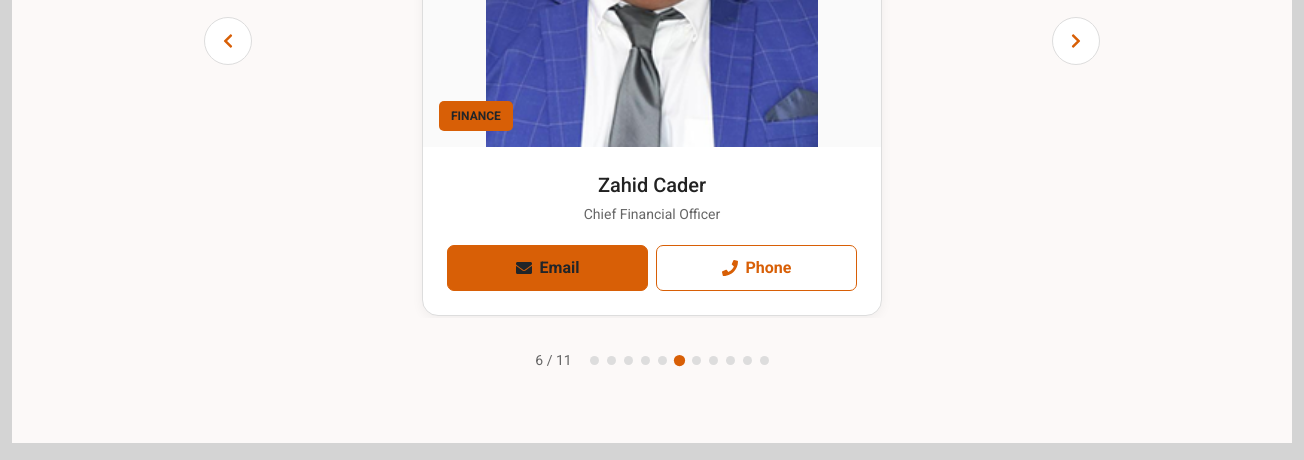
Scenario: About executive contacts › shows all source contacts in a navigable carousel with working contact links
Earlier steps of the test are not shown.
Later steps or results of the test are not shown.
(page scrolled)
Check: the heading "Zahid Cader" is shown, box [598, 173, 706, 197]
Click the button named "View Adv. Prince Olivier": (696, 361) [692, 356, 701, 365]
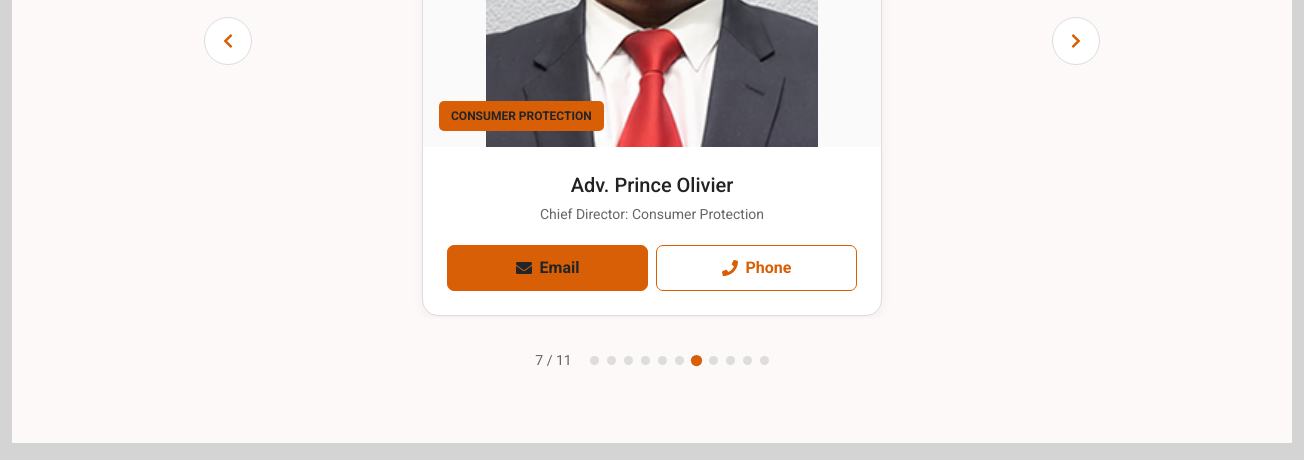
Check: the heading "Adv. Prince Olivier" is shown, box [571, 173, 733, 197]
Click the button named "View Mr. Riaan Warie": (713, 361) [709, 356, 718, 365]
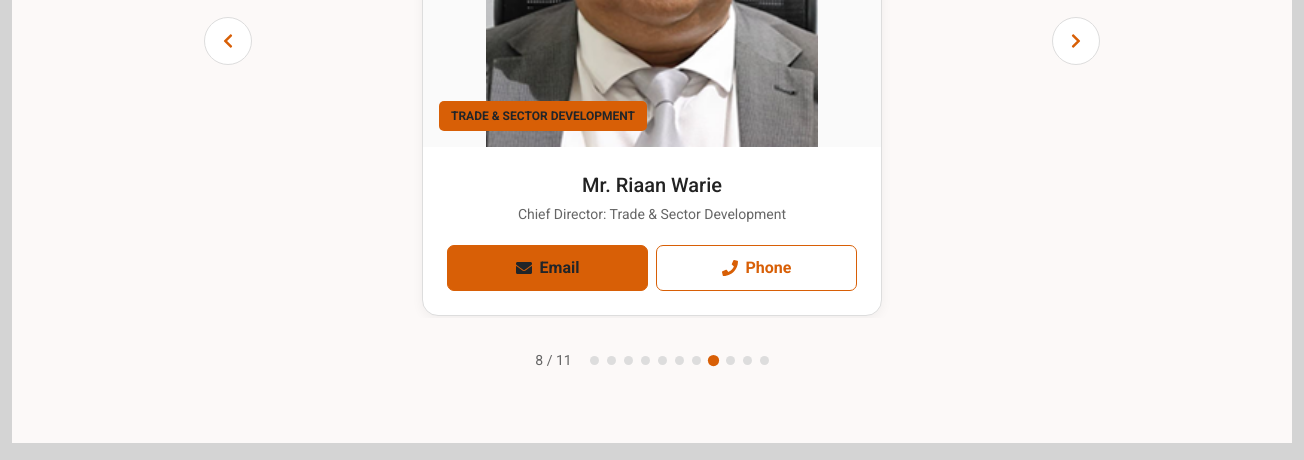
Check: the heading "Mr. Riaan Warie" is shown, box [582, 173, 722, 197]
Click the button named "View Mr. Sam Mabilo": (730, 361) [726, 356, 735, 365]
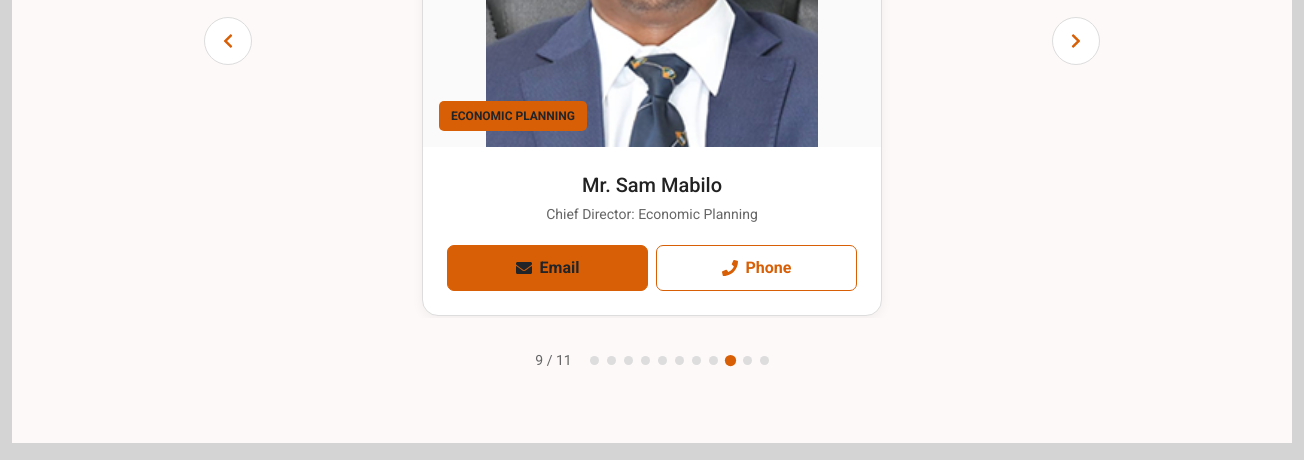
Check: the heading "Mr. Sam Mabilo" is shown, box [582, 173, 722, 197]
Click the button named "View Ms. Jean Wilson": (747, 361) [743, 356, 752, 365]
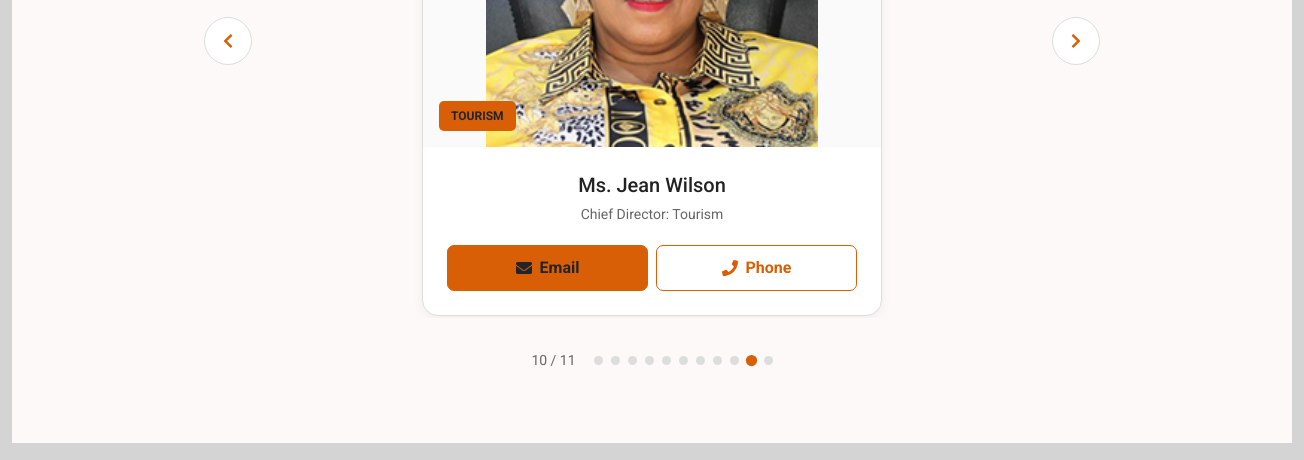
Check: the heading "Ms. Jean Wilson" is shown, box [578, 173, 726, 197]
Click the button named "View Mr. Darryl Christians": (768, 361) [764, 356, 773, 365]
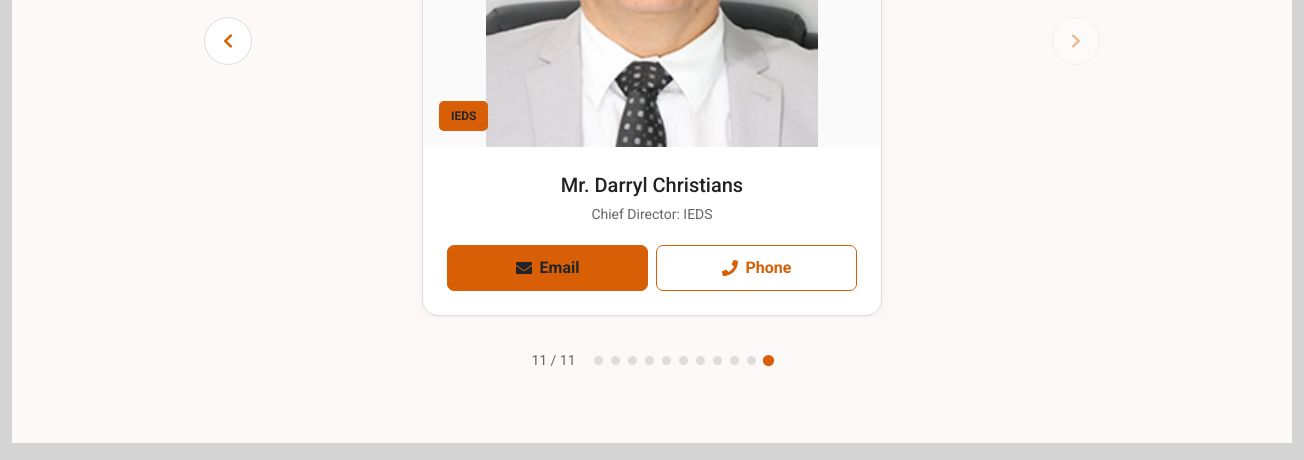
Check: the heading "Mr. Darryl Christians" is shown, box [561, 173, 743, 197]
Click the button named "Previous executive contact": (228, 41) [204, 17, 252, 65]
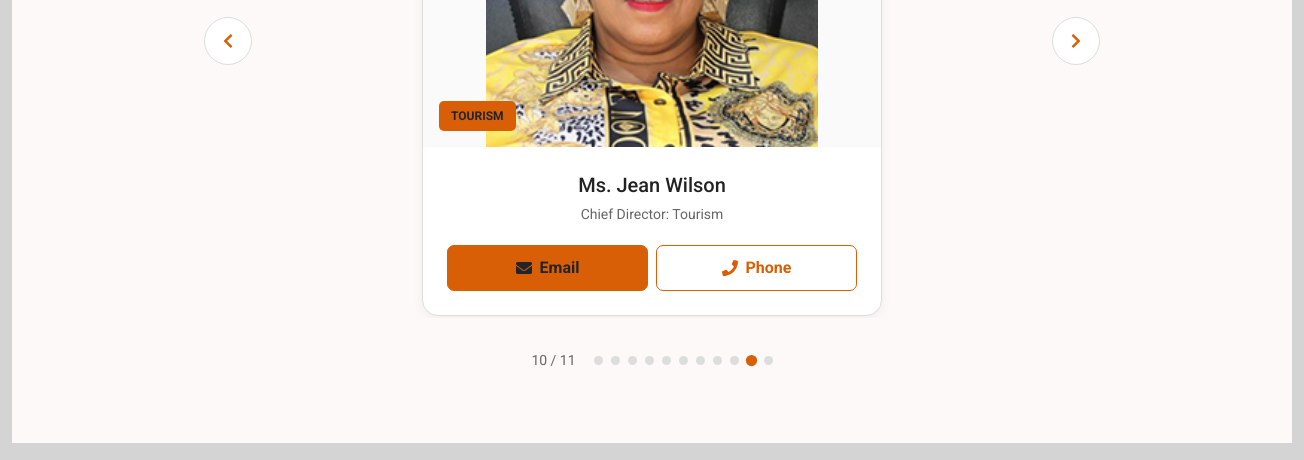
Check: the heading "Ms. Jean Wilson" is shown, box [578, 173, 726, 197]
